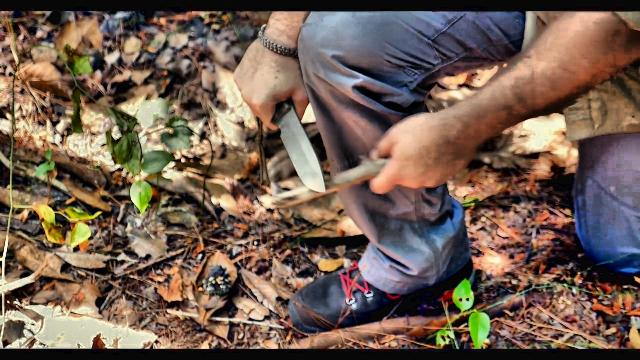knife: (230, 67, 330, 201)
